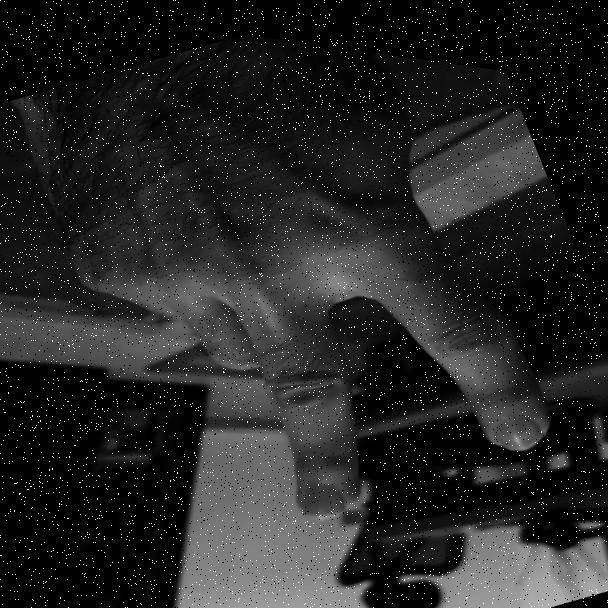two: (15, 2, 573, 603)
